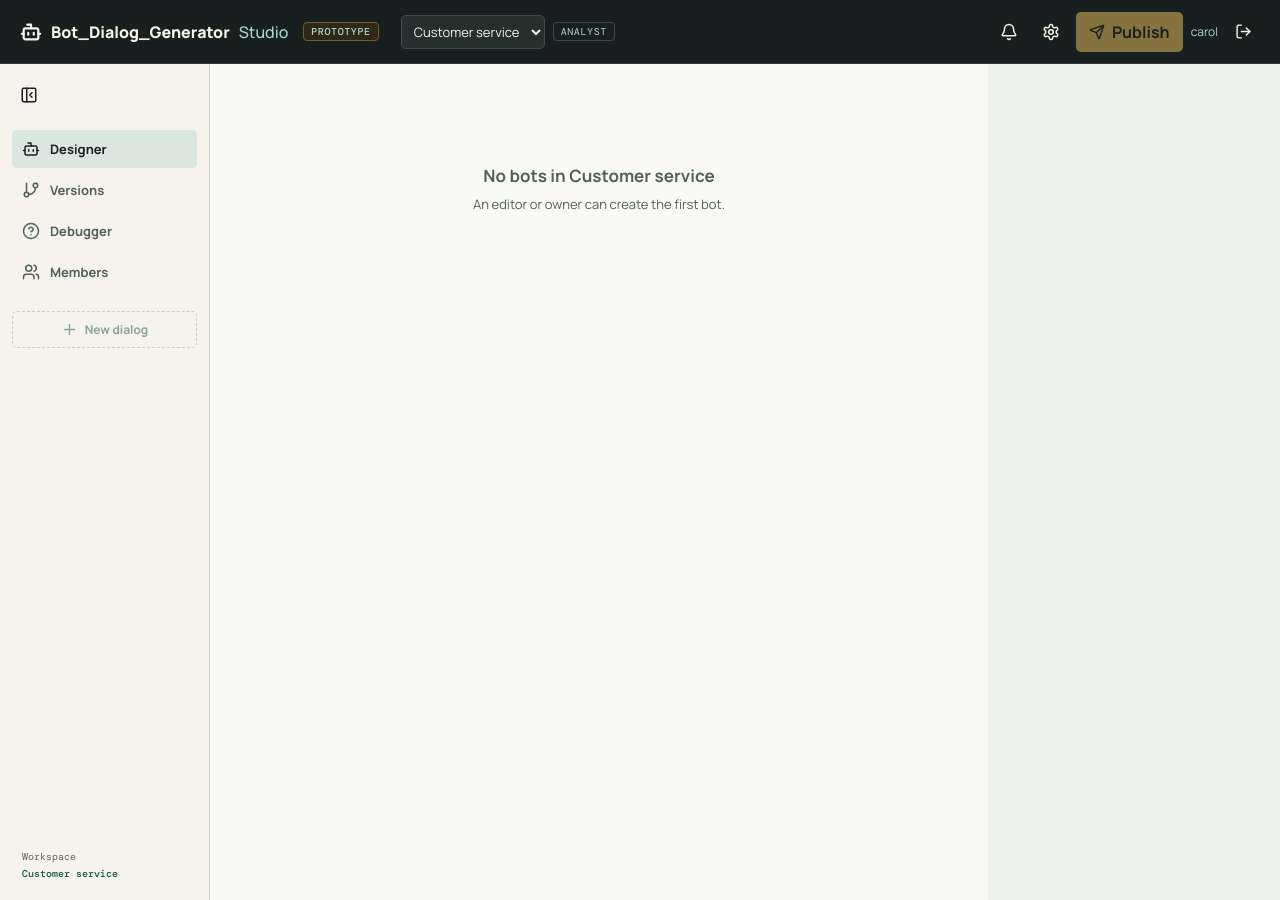
Test: Members and areas › shows analysts who has access without the controls to change it
Click the button "Members" at (104, 272), box [12,253,197,291]
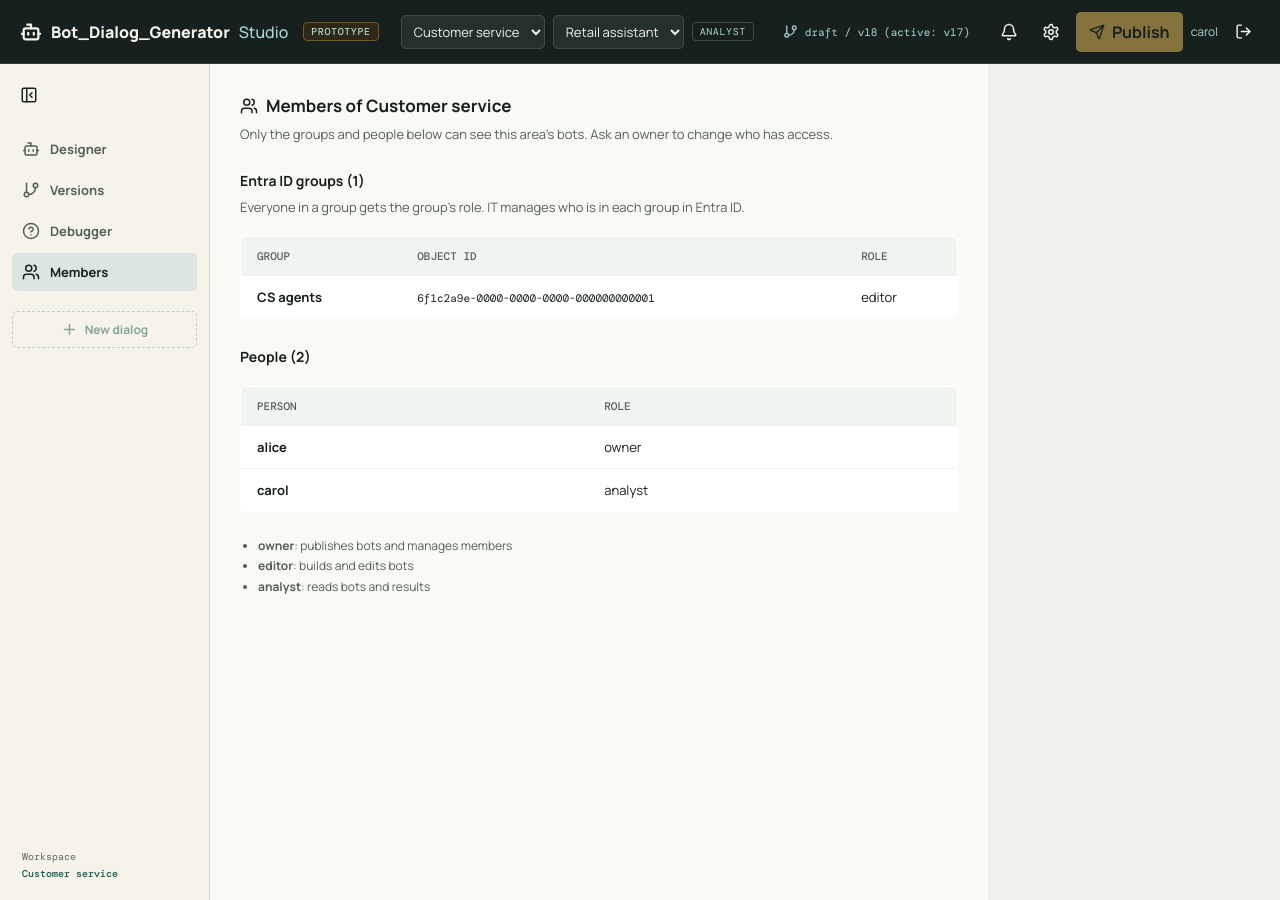
Now the text "CS agents" is shown, box [257,288,322,306]
Now the text "Ask an owner to change who has access." is shown, box [590,125,833,143]
